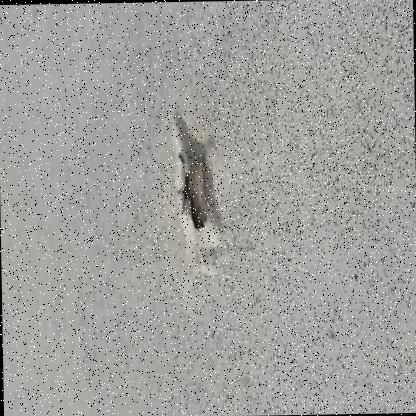Crack: (158, 84, 240, 314)
